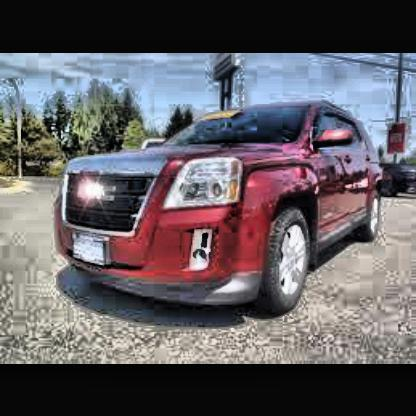GMC Terrain SUV 2012: (62, 104, 391, 320)
